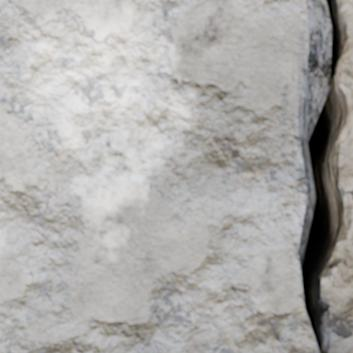brick: (0, 0, 330, 352)
crack: (301, 0, 352, 352)
